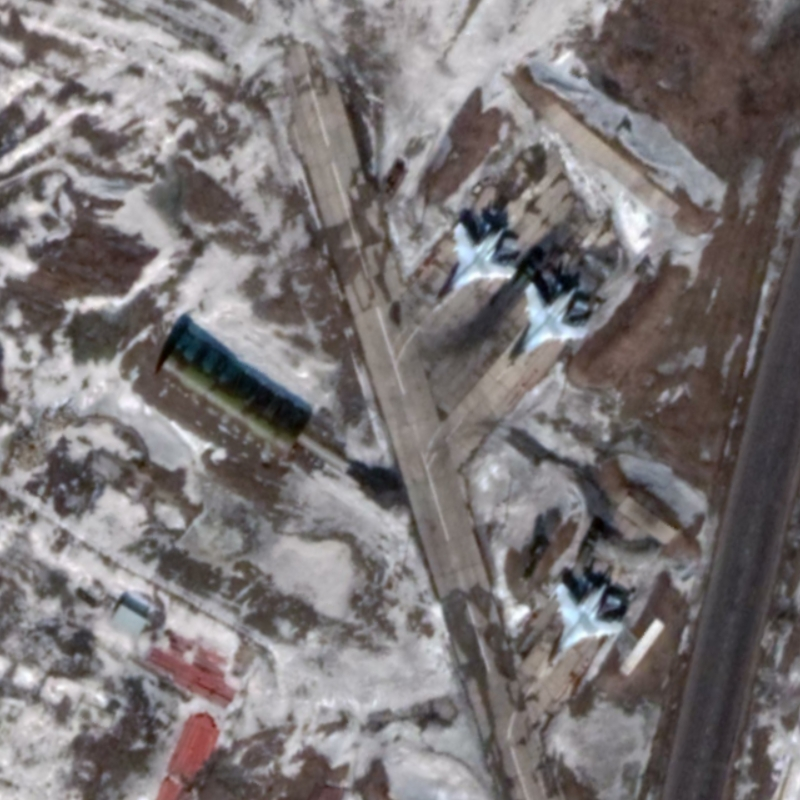A1: (535, 573, 631, 678), (501, 278, 592, 375), (430, 218, 520, 314)
